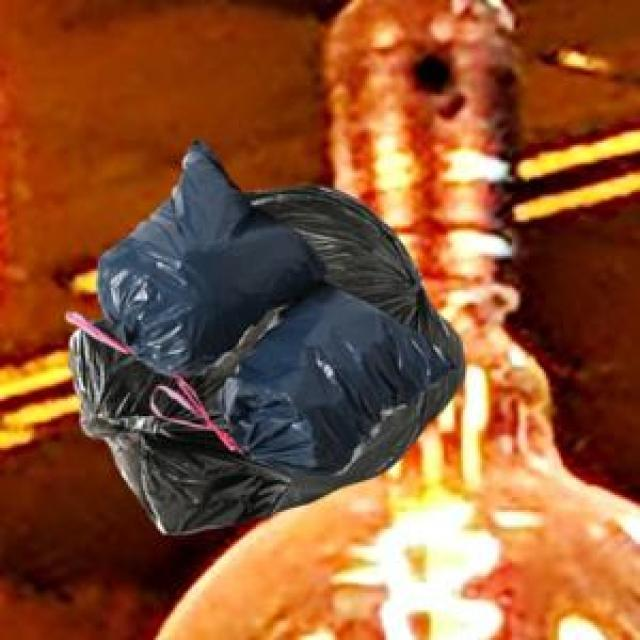waste: (70, 142, 464, 534)
